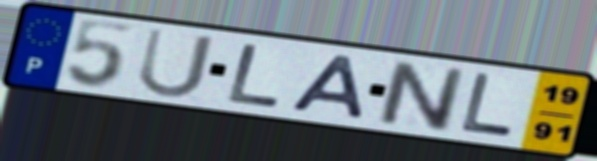5: (63, 16, 142, 91)
A: (286, 52, 369, 122)
L: (457, 70, 517, 141), (225, 41, 286, 110)
N: (376, 58, 467, 135)
U: (134, 25, 217, 100)
